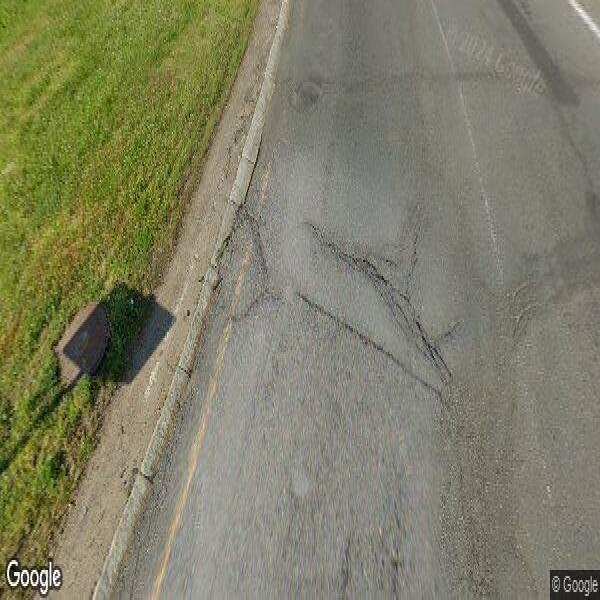manhole: (52, 309, 117, 382)
